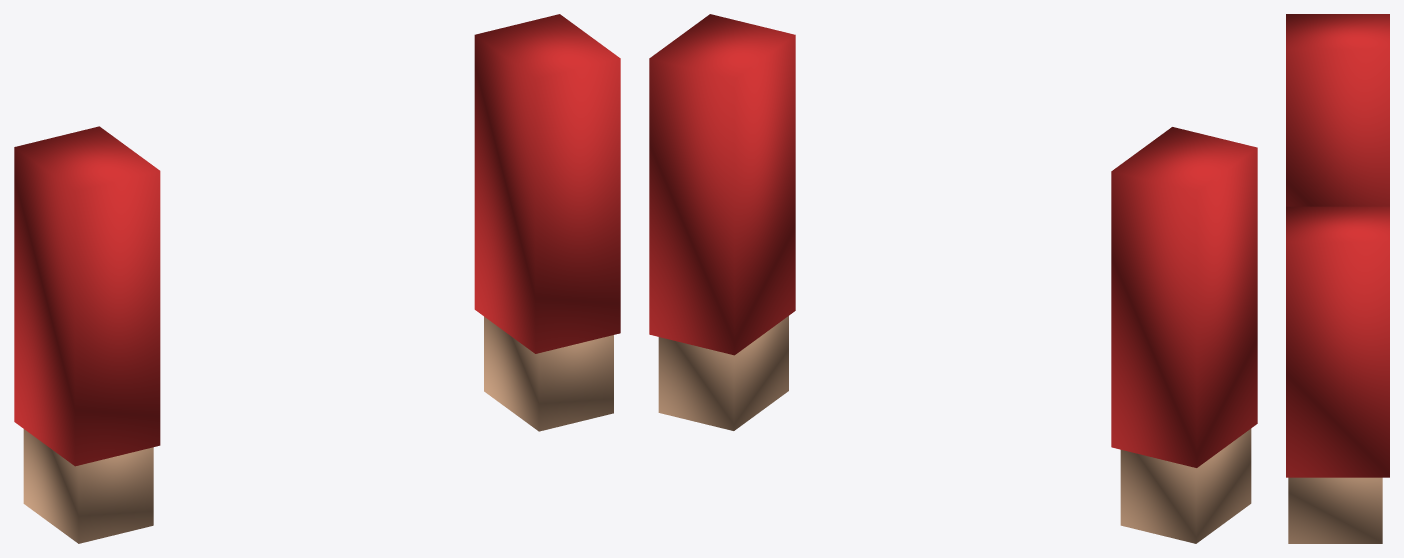
Rendered from skomma_hand_04.glb.
The picture shows the model from 3 angles, left to right: view 1: azimuth 30°, elevation 25°; view 2: azimuth 150°, elevation 25°; view 3: azimuth 270°, elevation 25°; orthographic projection. The views are drawn at different scales.
Visible parts, largest first — view 1: Left_Arm, Right_Arm, Left_Hand, Right_Hand; view 2: Right_Arm, Left_Arm, Left_Hand, Right_Hand; view 3: Right_Arm, Left_Arm, Right_Hand.
Part boxes in pixels (x1,y1,x2,y2): Left_Arm: [14, 126, 160, 466]; Right_Arm: [474, 14, 620, 353]; Left_Hand: [23, 429, 153, 543]; Right_Hand: [484, 316, 613, 431]; Right_Arm: [649, 14, 795, 355]; Left_Arm: [1111, 127, 1257, 467]; Left_Hand: [1120, 428, 1251, 543]; Right_Hand: [658, 316, 788, 430]; Right_Arm: [1286, 206, 1389, 477]; Left_Arm: [1286, 14, 1389, 206]; Right_Hand: [1288, 477, 1382, 543].
Bounding box in the file's own units: 2.18 × 1.35 × 0.42.
